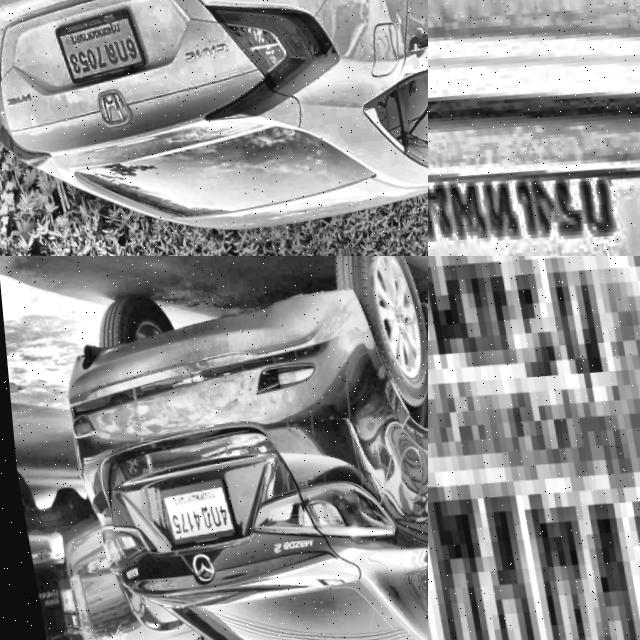license-plate: (428, 256, 640, 640), (428, 52, 640, 256), (41, 2, 143, 88), (150, 475, 230, 545)
